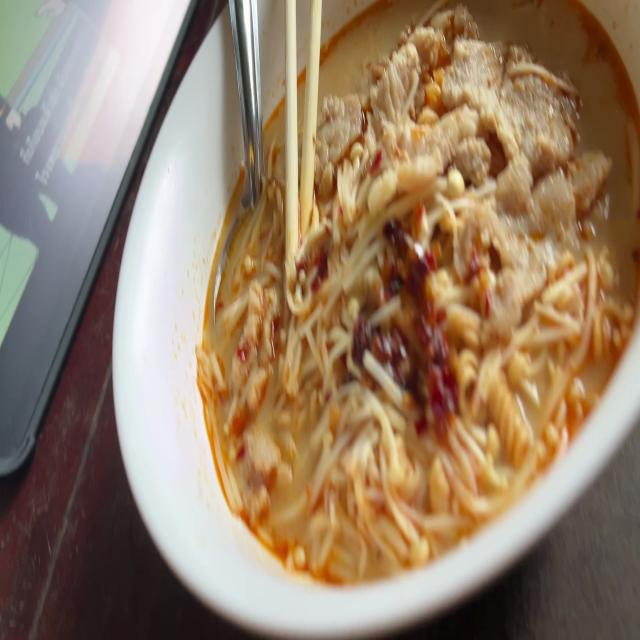noodle: (181, 0, 640, 603)
